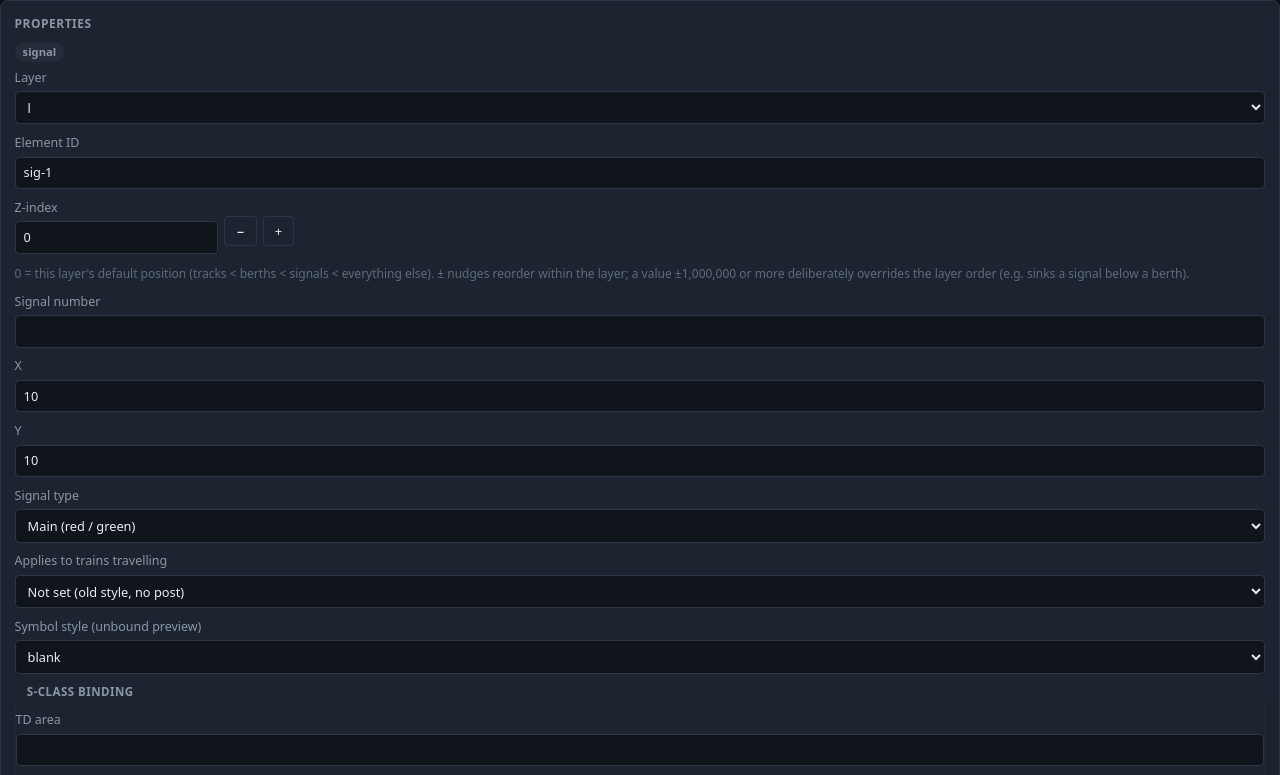
Test: PropertyPanel S-Class signal binding (Milestone 36c) › binds a signal to a defined bit, with activeMeans, and can use the definition's label
This screenshot has width=1280, height=775.
Type "m9" into the field labelled "TD area". click: (640, 750)
box: [16,734,1264,766]
(page scrolled)
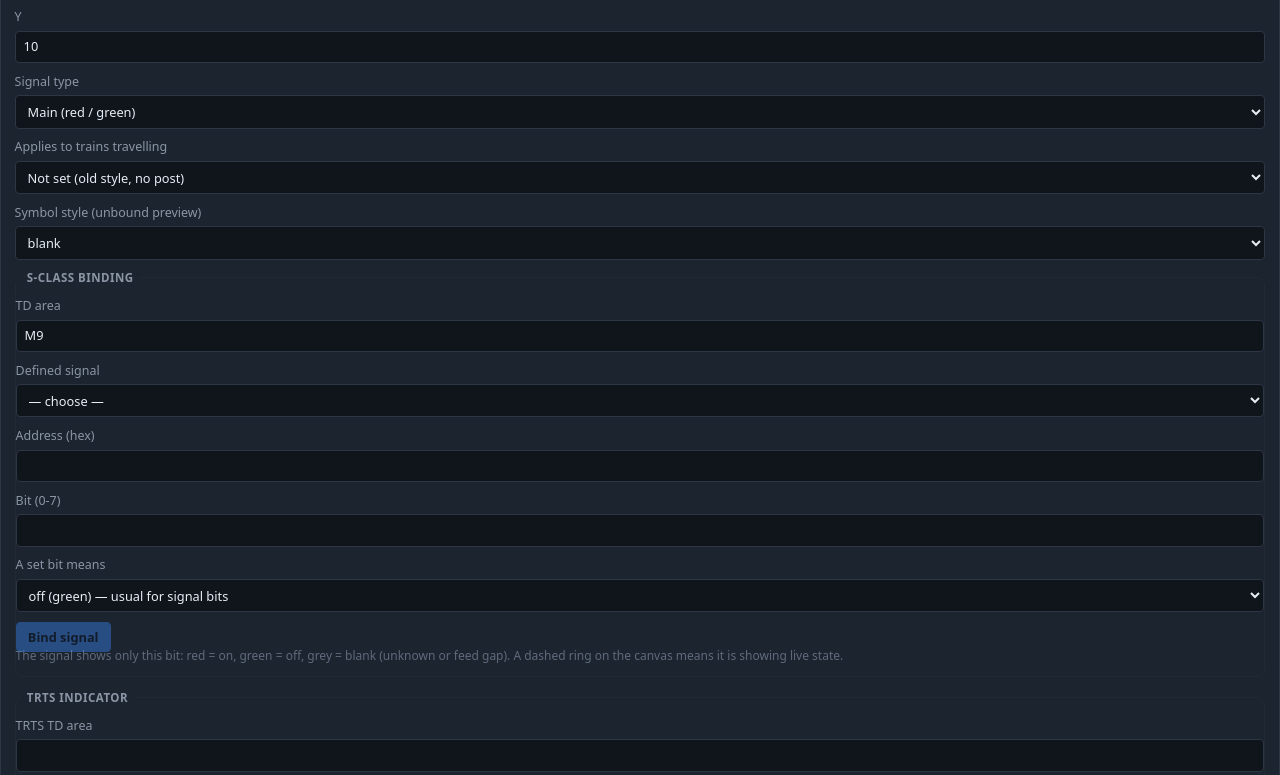
Select "S3003 (03:2)" in the dropdown labelled "Defined signal". click: (640, 401)
box: [16,384,1264,418]
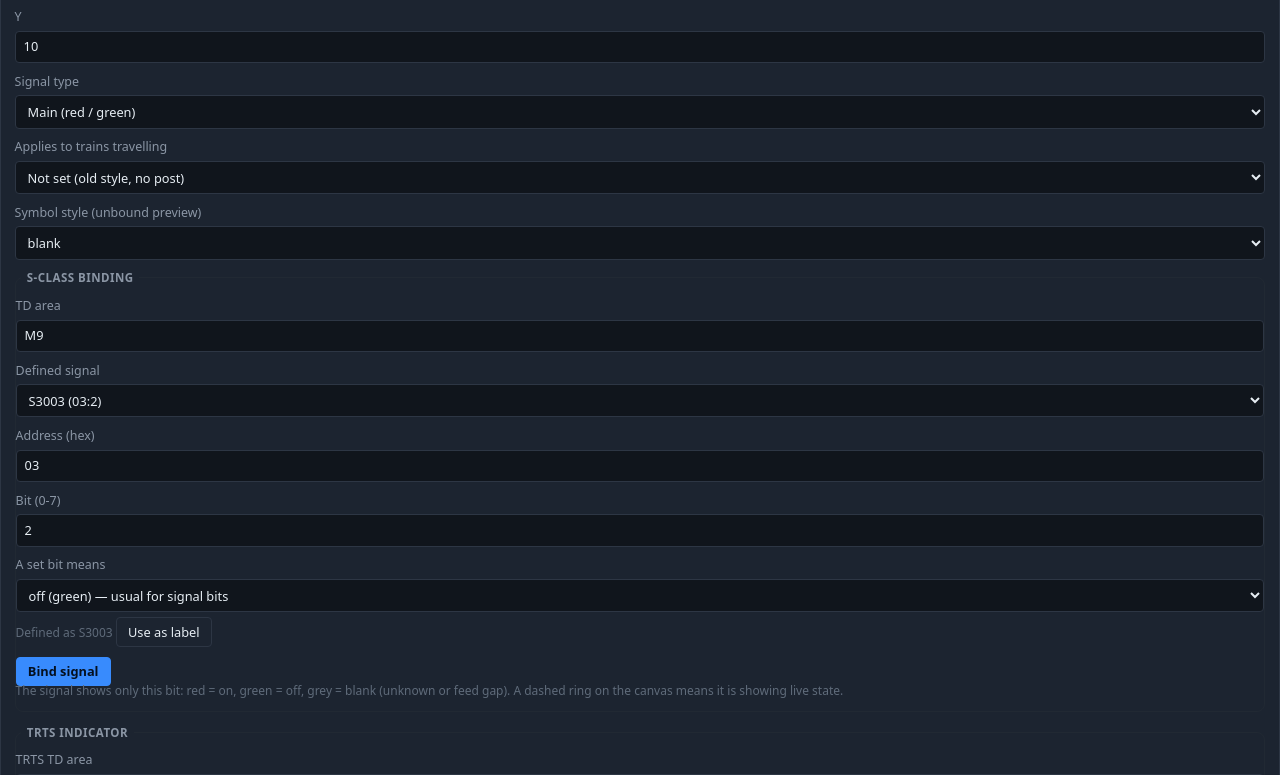
Now the field labelled "Address (hex)" holds "03", box [16,450,1264,482]
Now the field labelled "Bit (0-7)" holds "2", box [16,514,1264,547]
Click the button "Bind signal". click: (63, 671)
box: [16,656,111,686]
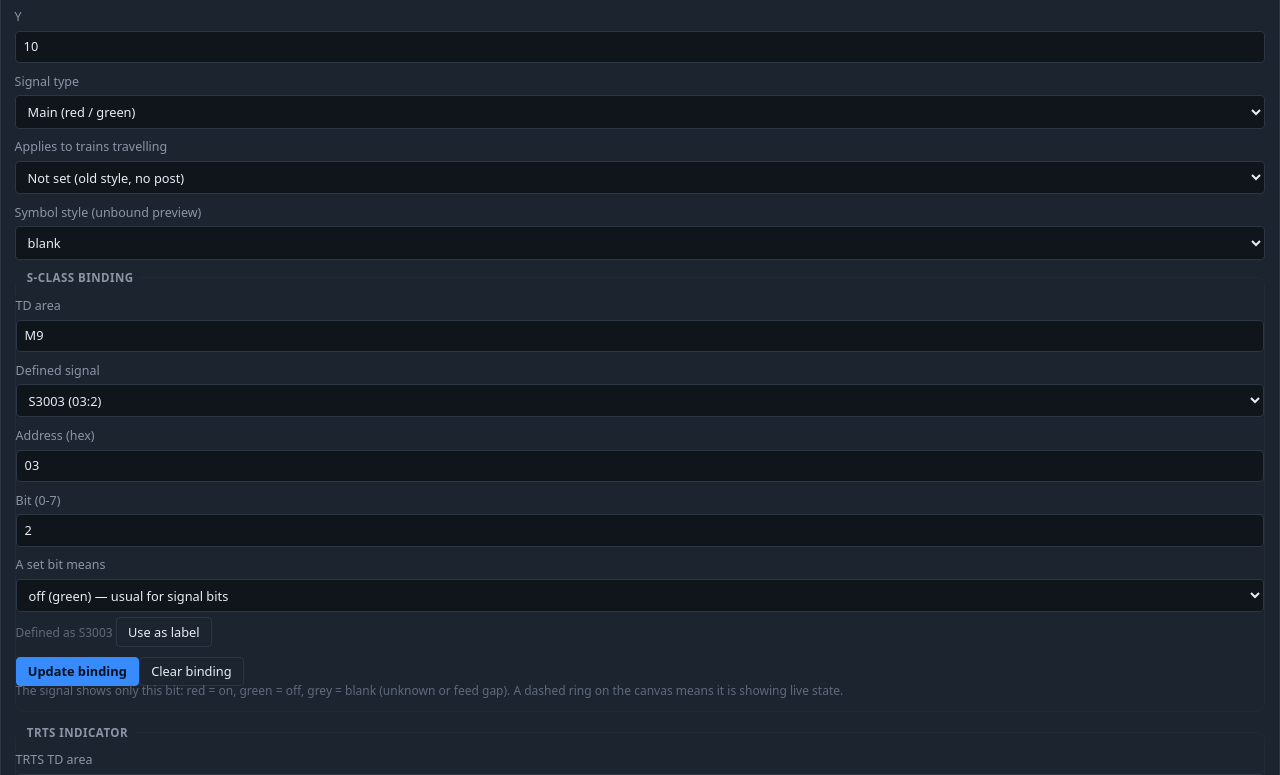
Click the button "Use as label". click: (164, 632)
box: [116,617,212,647]
(page scrolled)
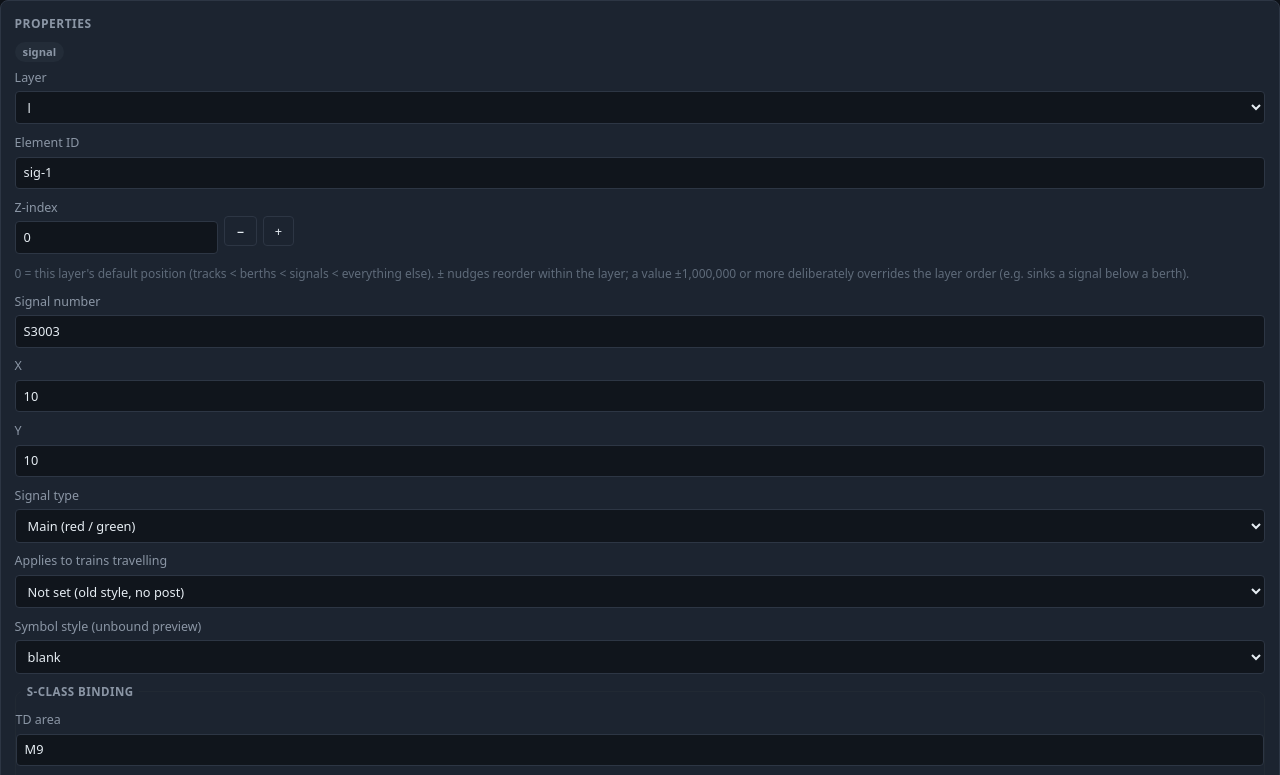
Now the field labelled "Signal number" holds "S3003", box [15,315,1265,348]
